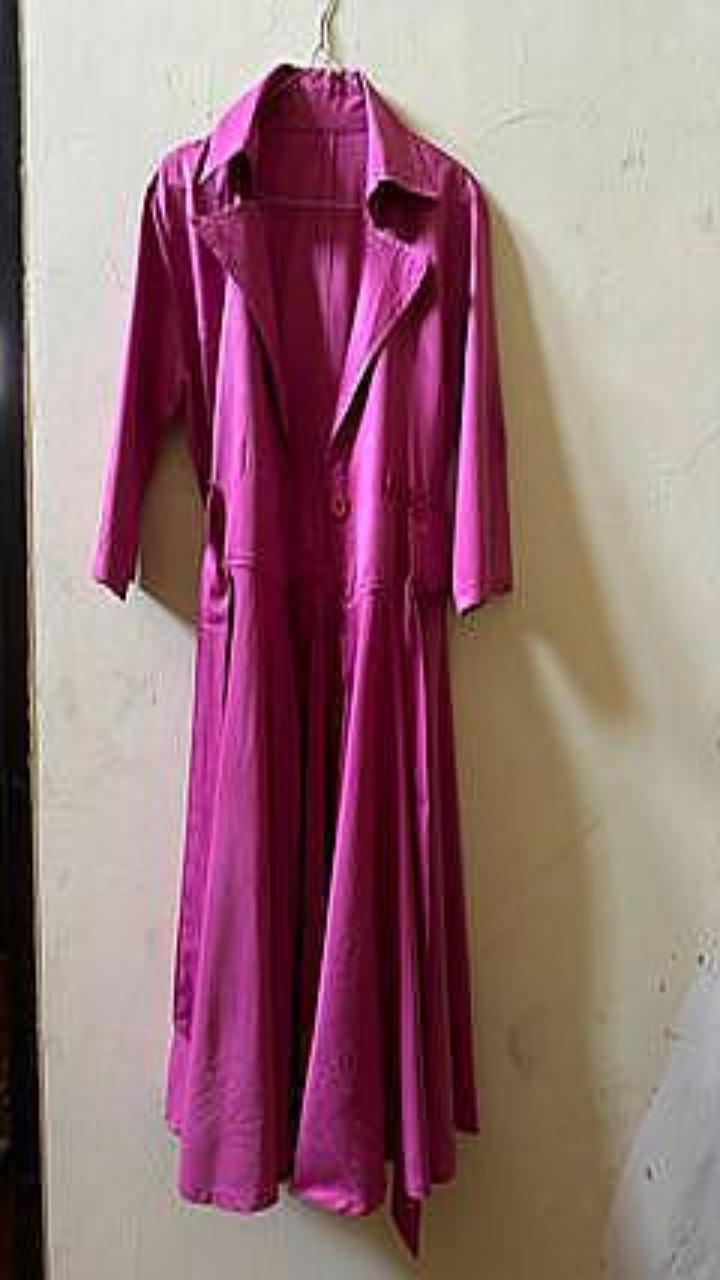Coat: (93, 63, 511, 1253)
